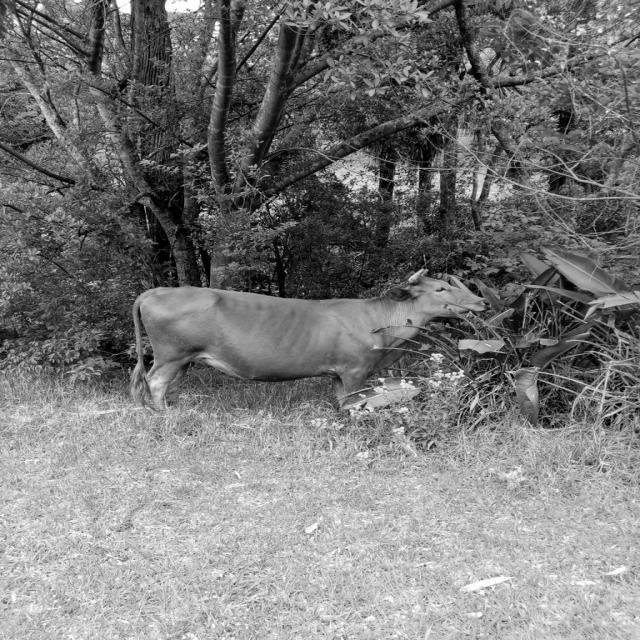cow: (130, 270, 486, 408)
